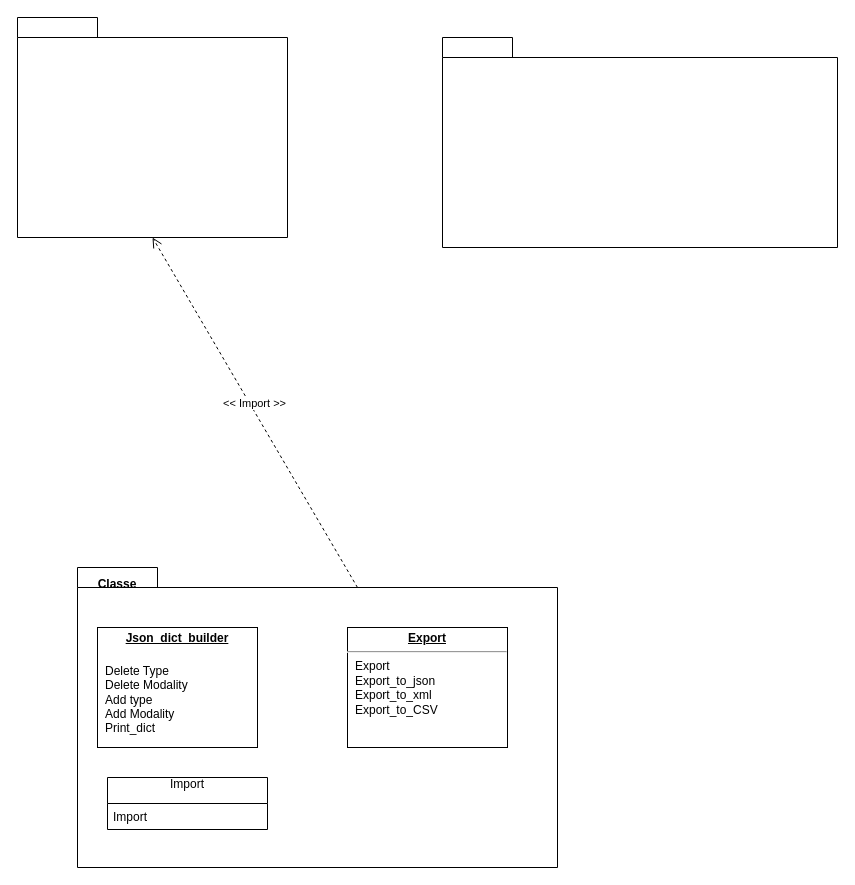
This 855x885 diagram has some shape labels left out. Here are the shapes that lost their labels. From the top down, the box of each, then its label:
(16, 16, 288, 238): Webservice
(442, 36, 838, 248): DAO
